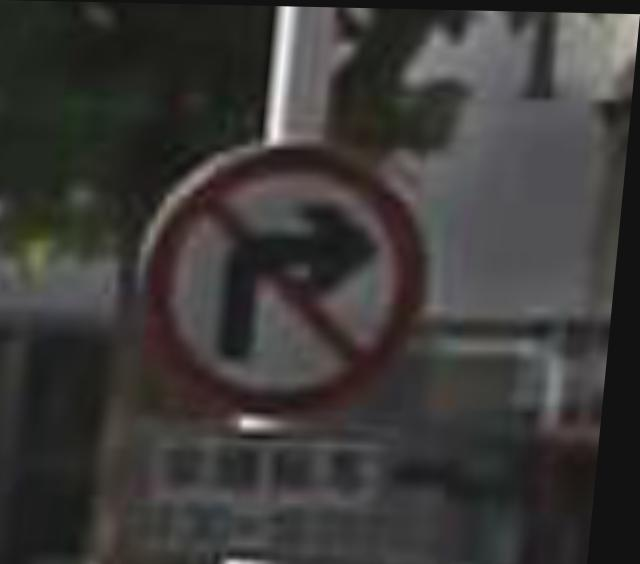not_turn_right: (135, 131, 453, 434)
